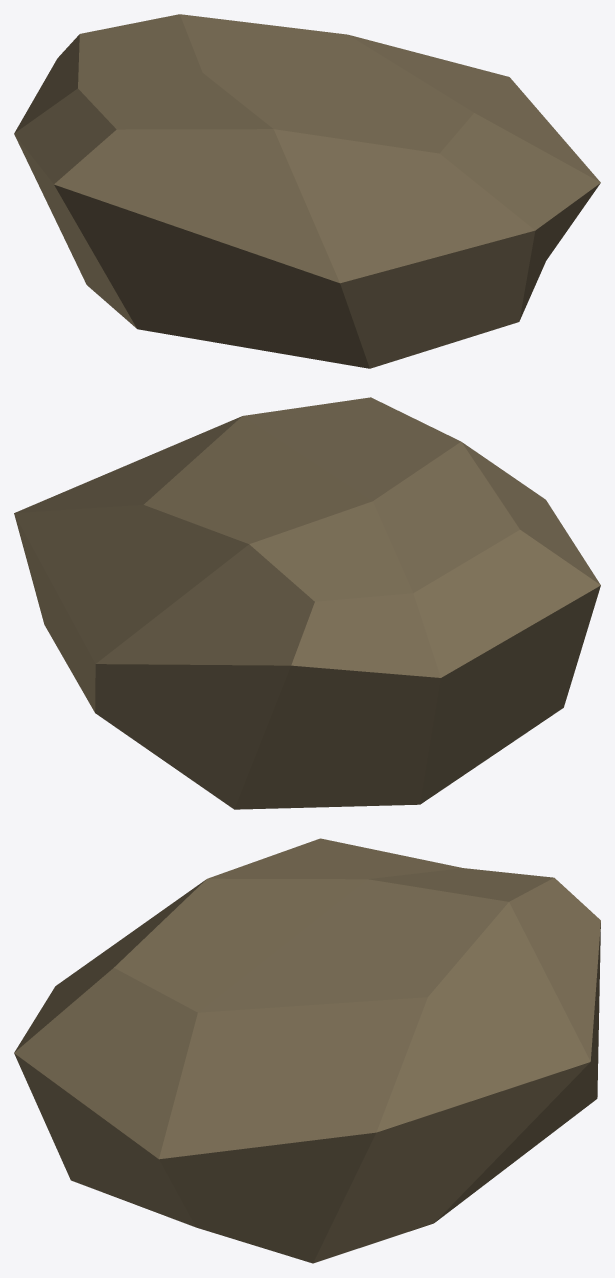
Rendered from rock_4.obj.
The picture shows the model from 3 angles, top to bottom: view 1: azimuth 30°, elevation 25°; view 2: azimuth 150°, elevation 25°; view 3: azimuth 270°, elevation 25°; orthographic projection. The views are drawn at different scales.
Visible parts, largest first — view 1: rock_4; view 2: rock_4; view 3: rock_4.
Boxes of the visible parts, box(x1,y1,x2,y2) form: rock_4: box(14, 14, 600, 368); rock_4: box(14, 397, 600, 809); rock_4: box(14, 838, 600, 1263).
Size of the model in its own units: 12.66 by 5.76 by 12.23.
